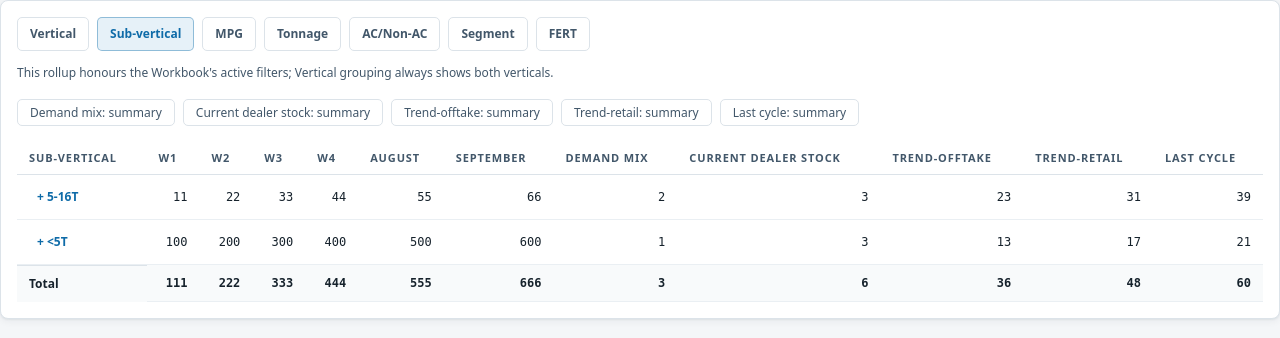
Test: RollupTable › cycles a collapsible band from summary to full and then off
Expected: the column heading "Current dealer stock" is shown, [677, 142, 880, 175]
Expected: the column heading "0-60 days" is not shown
Click the button "Current dealer stock: summary": x=283, y=112 [183, 99, 383, 126]
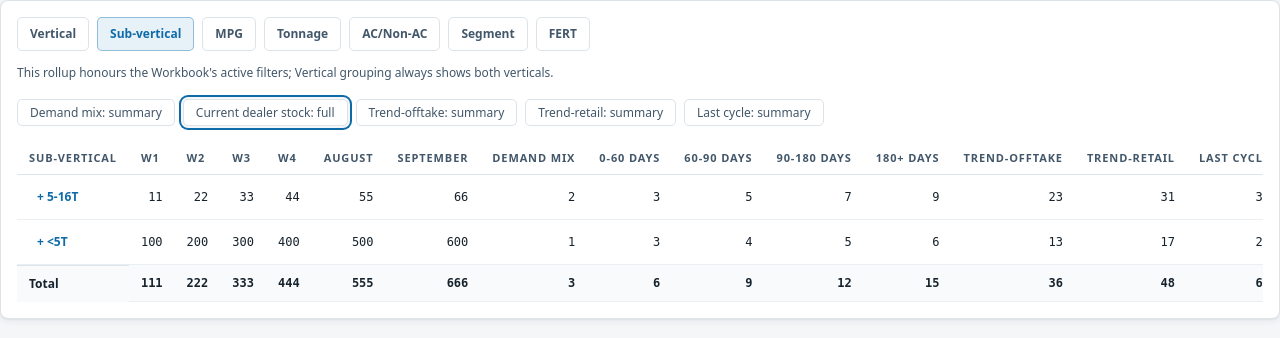
Result: the column heading "0-60 days" is shown at [587, 142, 672, 175]
Result: the column heading "60-90 days" is shown at [672, 142, 764, 175]
Result: the column heading "90-180 days" is shown at [764, 142, 864, 175]
Click the button "Current dealer stock: full": x=265, y=112 [183, 99, 348, 126]
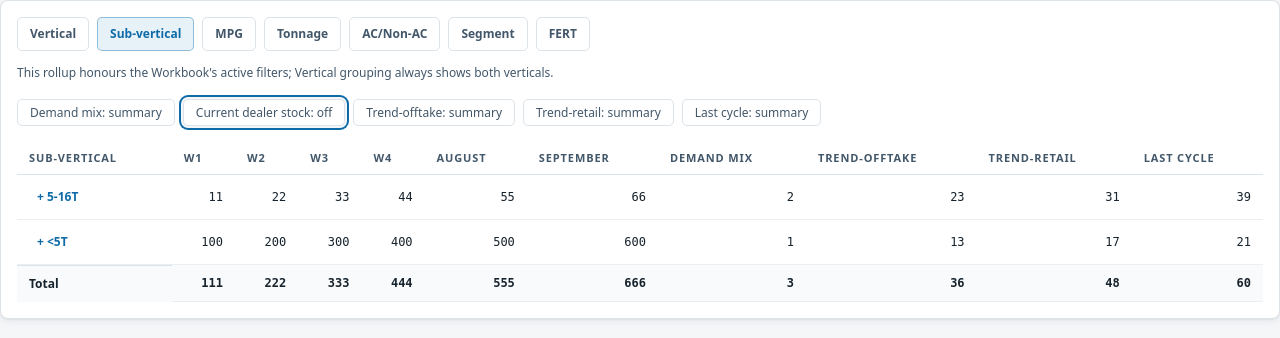
Result: the button "Current dealer stock: off" is shown at [183, 99, 345, 126]
